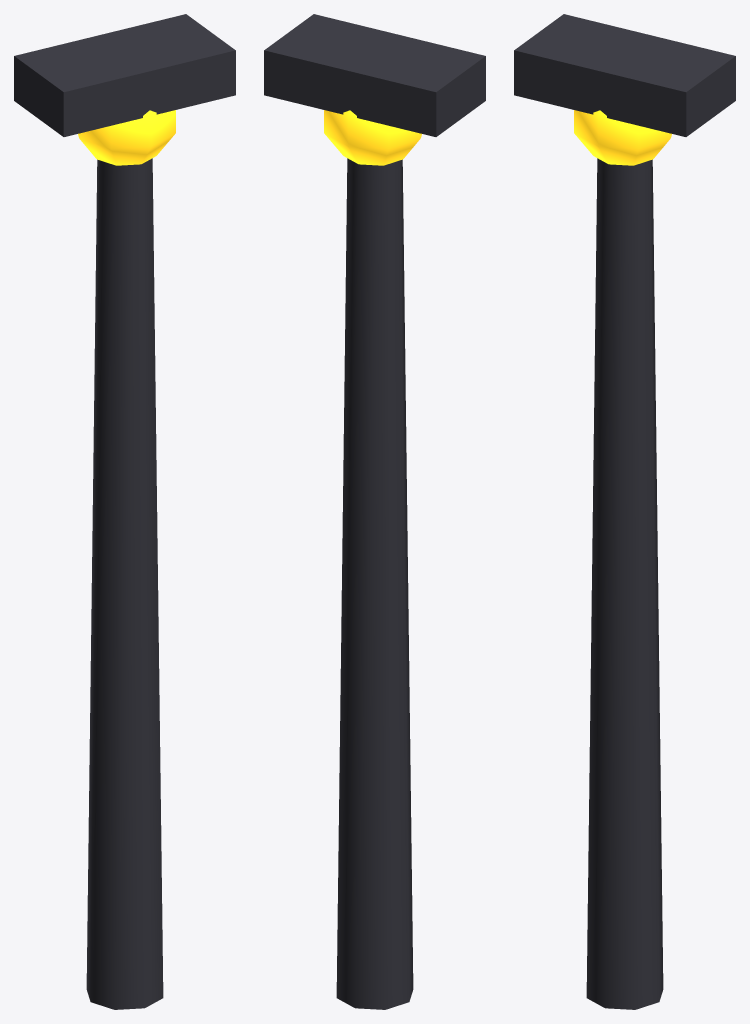
Rendered from lamp-post.glb.
3 renders of one model, left to right at view 1: azimuth 30°, elevation 25°; view 2: azimuth 150°, elevation 25°; view 3: azimuth 330°, elevation 25°, orthographic.
Visible parts, largest first — view 1: lamp_pole, lamp_head, bulb_lamp; view 2: lamp_pole, lamp_head, bulb_lamp; view 3: lamp_pole, lamp_head, bulb_lamp.
Part boxes in pixels (<box>): lamp_pole: <box>86,158,163,1009</box>; lamp_head: <box>14,14,235,136</box>; bulb_lamp: <box>78,110,175,165</box>; lamp_pole: <box>336,158,413,1009</box>; lamp_head: <box>264,14,485,136</box>; bulb_lamp: <box>324,110,421,165</box>; lamp_pole: <box>586,158,663,1009</box>; lamp_head: <box>514,14,735,136</box>; bulb_lamp: <box>574,110,671,165</box>.
Bounding box in the file's own units: 1 × 5.22 × 0.5326.
